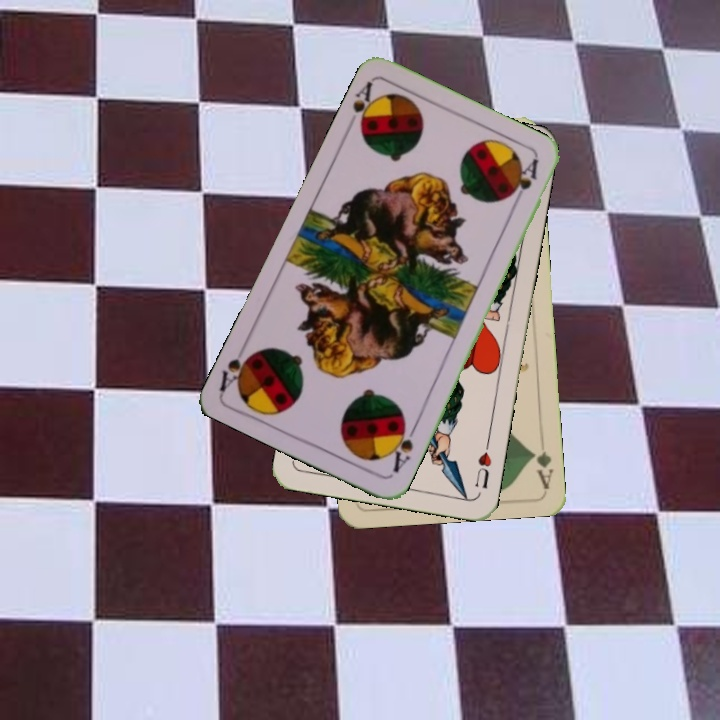GA: (527, 446, 556, 490)
HU: (471, 436, 494, 491)
SA: (348, 77, 383, 138), (385, 417, 419, 475)
